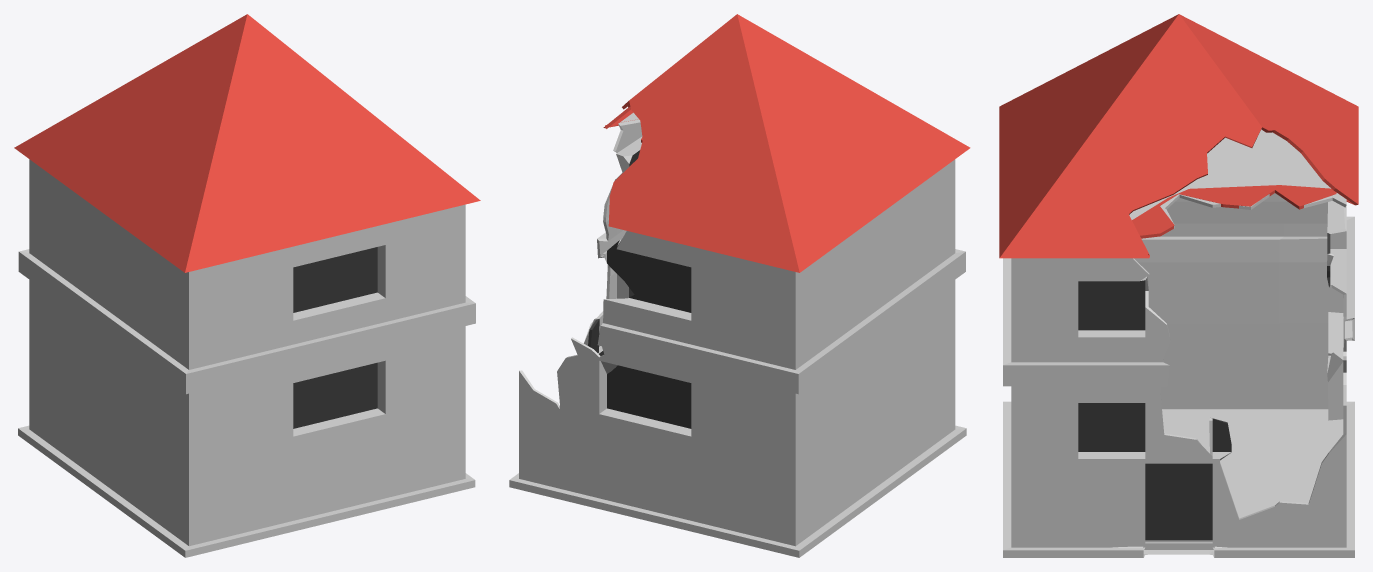
Rendered from ruin build4.fbx.
3 views of the same model, side by side, from view 1: azimuth 30°, elevation 25°; view 2: azimuth 150°, elevation 25°; view 3: azimuth 270°, elevation 25° (orthographic). The views are drawn at different scales.
Visible parts, largest first — view 1: Cube.035; view 2: Cube.035; view 3: Cube.035.
Part boxes in pixels (box(x1,y1,x2,y2)): Cube.035: box(14, 14, 480, 557); Cube.035: box(509, 14, 970, 557); Cube.035: box(999, 14, 1358, 557).
Bounding box in the file's own units: 9738 × 14110 × 9738.
